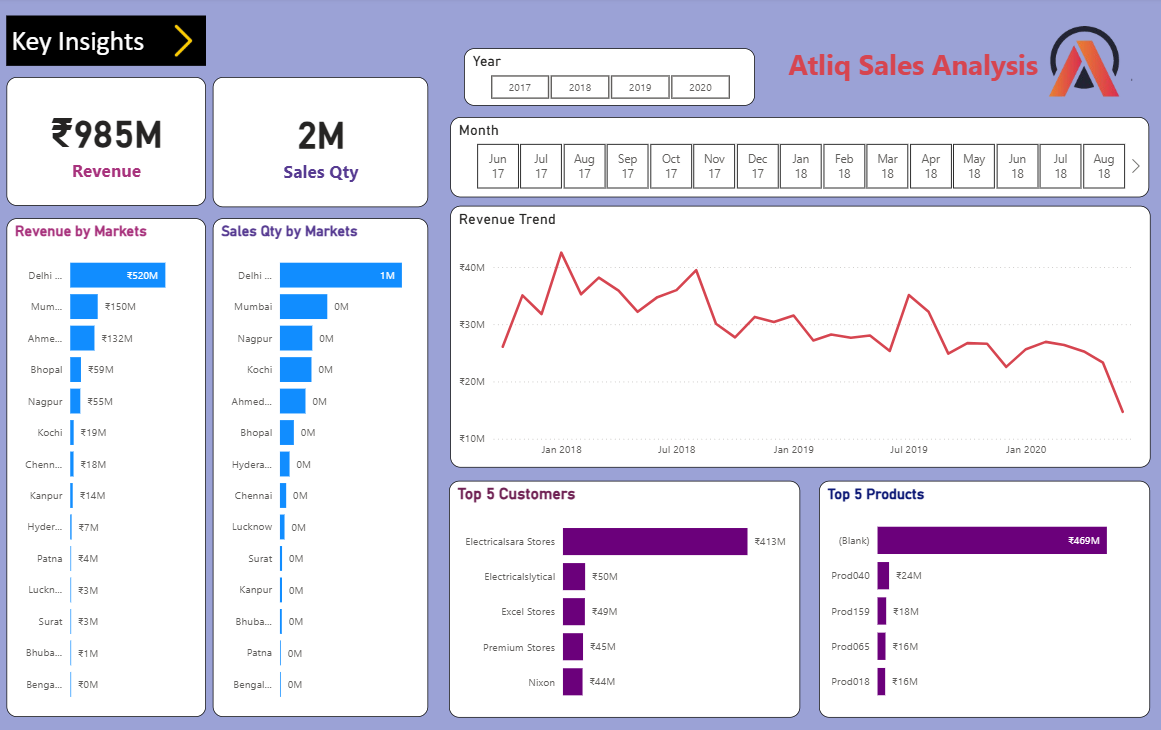

Layout of this report page (visuals, bound fields, positions):
{"tool":"powerbi","page":{"name":"Key Insights","canvas":[1350,850],"ordinal":0},"visuals":[{"type":"card","fields":{"Values":["BaseMeasures (2).Revenue"]},"box":[8.7,92.6,230.1,149.1],"z":0},{"type":"card","fields":{"Values":["BaseMeasures (2).Sales Qty"]},"box":[247.5,92.6,248.9,150.5],"z":1000},{"type":"barChart","title":"Revenue by Markets","fields":{"Y":["BaseMeasures (2).Revenue"],"Category":["sales markets.markets_name"]},"box":[8.7,256.2,230.1,576],"z":2000},{"type":"barChart","title":"Sales Qty by Markets","fields":{"Y":["BaseMeasures (2).Sales Qty"],"Category":["sales markets.markets_name"]},"box":[247.5,256.2,248.9,576],"z":3000},{"type":"slicer","title":"Year","fields":{"Values":["sales date.year"]},"box":[536.9,59.3,335.8,66.6],"z":4000},{"type":"slicer","title":"Month","fields":{"Values":["sales date.cy_date"]},"box":[521,138.9,807.6,92.6],"z":5000},{"type":"barChart","title":"Top 5 Customers","fields":{"Y":["BaseMeasures (2).Revenue"],"Category":["sales customers.custmer_name"]},"box":[519.6,558.6,405.2,273.5],"z":6000},{"type":"barChart","title":"Top 5 Products","fields":{"Y":["BaseMeasures (2).Revenue"],"Category":["sales products.product_code"]},"box":[946.5,558.6,382.1,273.5],"z":7000},{"type":"lineChart","title":"Revenue Trend","fields":{"Y":["BaseMeasures (2).Revenue"],"Category":["sales date.cy_date"]},"box":[521,241.7,809,302.5],"z":8000},{"type":"textbox","box":[8.7,21.7,230.1,57.9],"z":9000},{"type":"image","box":[114.3,24.6,195.4,50.7],"z":10000},{"type":"image","box":[1167.9,10.1,162.1,128.8],"z":11000},{"type":"textbox","box":[906,50.7,343,75.3],"z":12000}]}

Visuals, with their boxes in screenshot pixels (x1, y1, x2, y2), scaled from the page's 1350x850 canvas onto the 1161x730 screenshot:
card - BaseMeasures (2).Revenue: bbox(7, 80, 205, 208)
card - BaseMeasures (2).Sales Qty: bbox(213, 80, 427, 209)
"Revenue by Markets" barChart: bbox(7, 220, 205, 715)
"Sales Qty by Markets" barChart: bbox(213, 220, 427, 715)
"Year" slicer: bbox(462, 51, 751, 108)
"Month" slicer: bbox(448, 119, 1143, 199)
"Top 5 Customers" barChart: bbox(447, 480, 795, 715)
"Top 5 Products" barChart: bbox(814, 480, 1143, 715)
"Revenue Trend" lineChart: bbox(448, 208, 1144, 467)
textbox: bbox(7, 19, 205, 68)
image: bbox(98, 21, 266, 65)
image: bbox(1004, 9, 1144, 119)
textbox: bbox(779, 44, 1074, 108)
